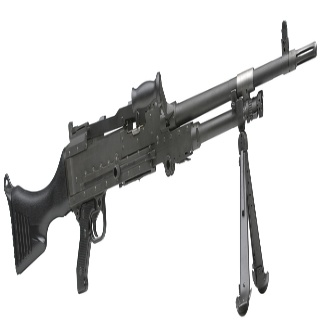rifle: (4, 16, 320, 318)
